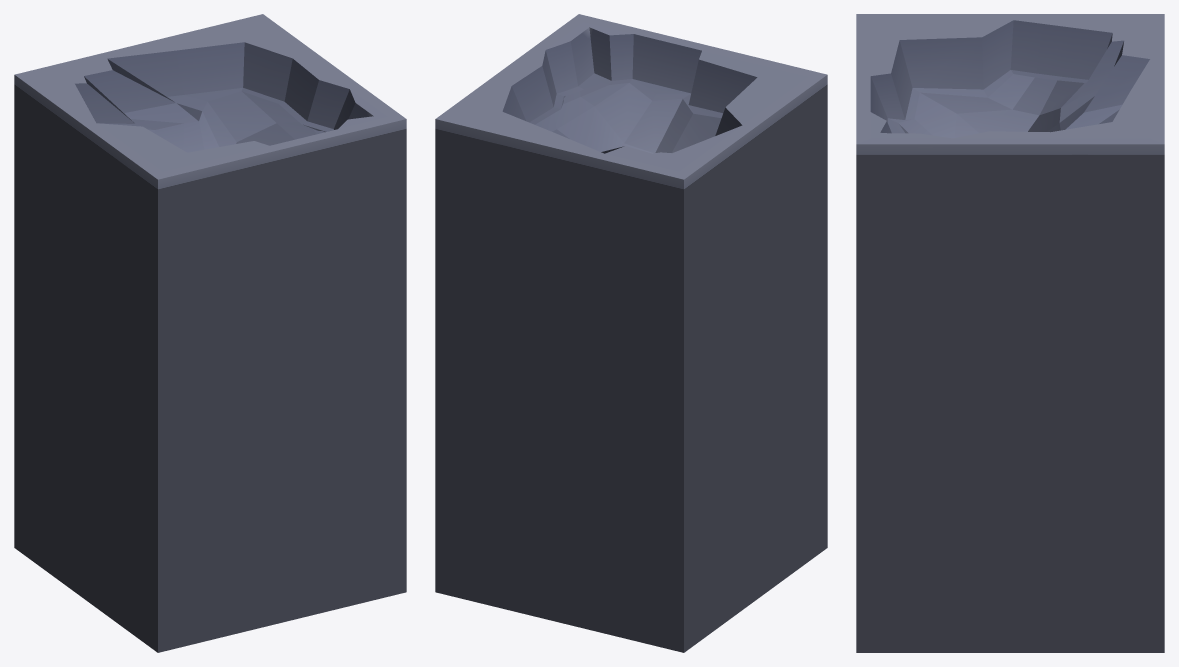
File: pavement dip.glb
The picture shows the model from 3 angles, left to right: view 1: azimuth 30°, elevation 25°; view 2: azimuth 150°, elevation 25°; view 3: azimuth 270°, elevation 25°; orthographic projection. The views are drawn at different scales.
Visible parts, largest first — view 1: pavement dip; view 2: pavement dip; view 3: pavement dip.
Boxes of the visible parts, left/top/right/bottom form: pavement dip: left=14, top=14, right=406, bottom=652; pavement dip: left=435, top=14, right=827, bottom=652; pavement dip: left=856, top=14, right=1164, bottom=652.
Bounding box in the file's own units: 1 × 1.82 × 1.
1 material, 1 textured.
